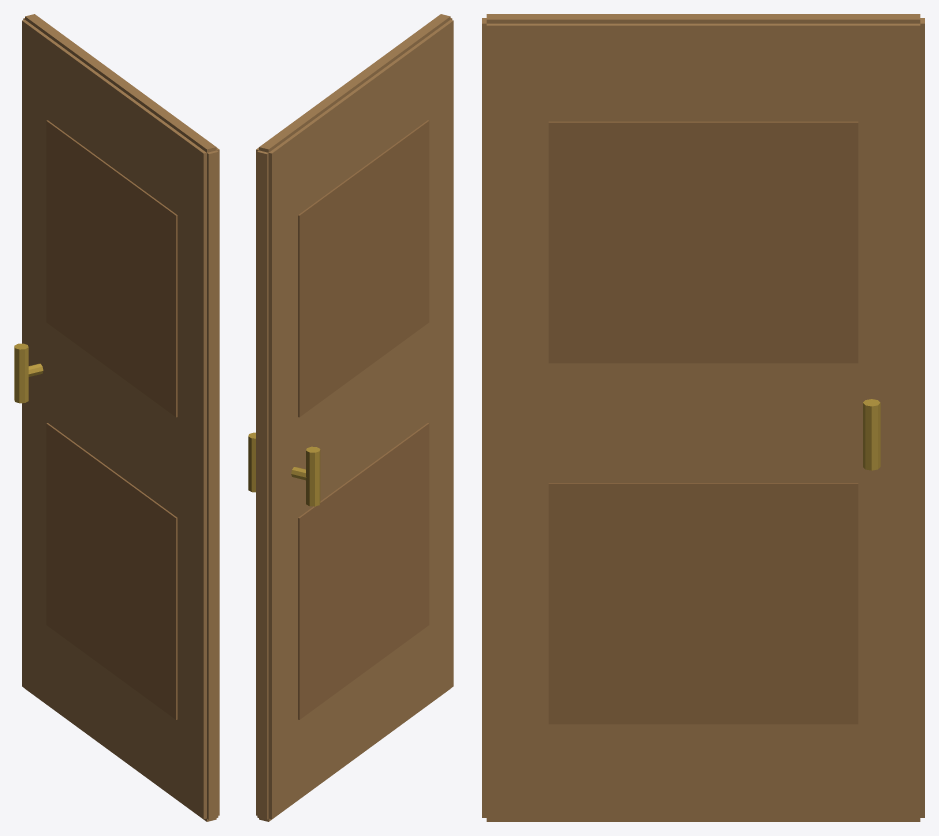
File: door.glb
3 renders of one model, left to right at view 1: azimuth 30°, elevation 25°; view 2: azimuth 150°, elevation 25°; view 3: azimuth 270°, elevation 25°, orthographic. The views are drawn at different scales.
Parts seen in each view (by area): view 1: door; view 2: door; view 3: door.
Part boxes in pixels (bbox=[...]): door: bbox=[14, 14, 219, 821]; door: bbox=[248, 14, 453, 821]; door: bbox=[482, 14, 924, 821].
Size of the model in its own units: 0.22 by 2 by 1.
